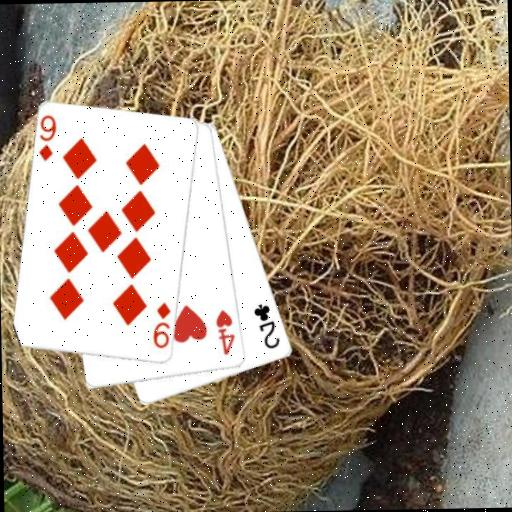2C: (251, 301, 282, 352)
4H: (213, 307, 237, 357)
9D: (149, 299, 173, 350), (35, 112, 59, 163)
